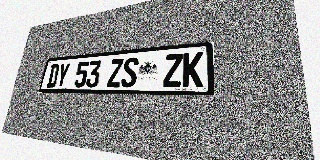3: (85, 60, 102, 87)
5: (74, 61, 90, 87)
D: (46, 63, 60, 87)
K: (182, 52, 203, 87)
S: (121, 57, 139, 87)
Y: (56, 63, 70, 87)
Z: (163, 53, 183, 87), (107, 58, 124, 87)
